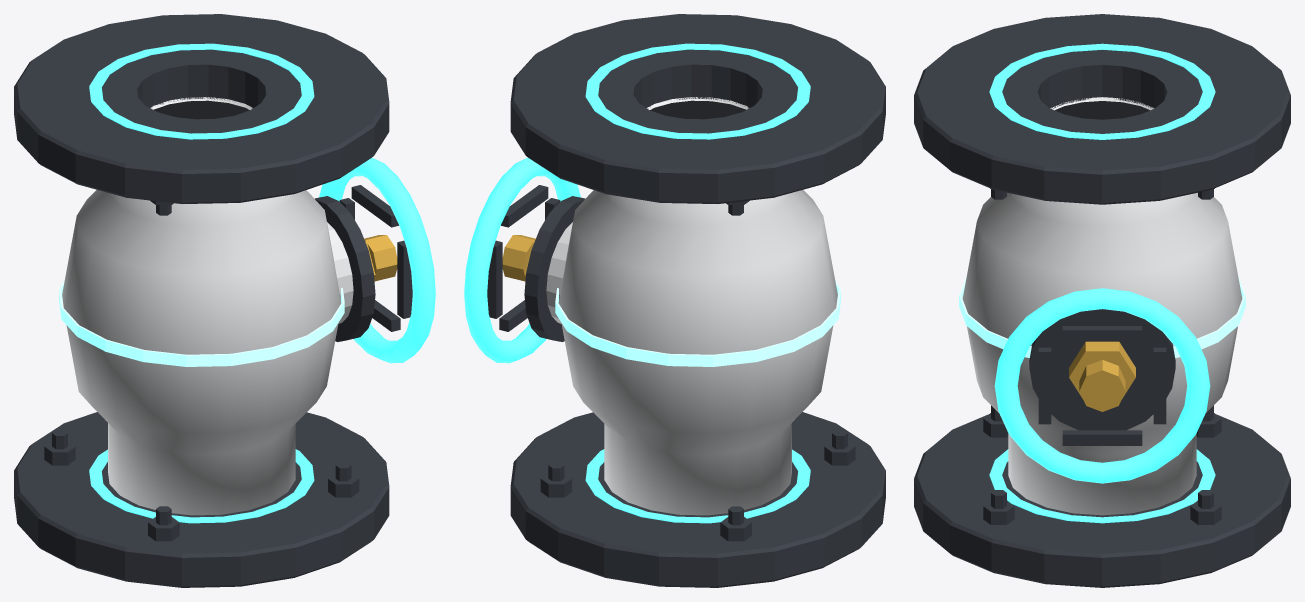
The model's file is valve_space.glb.
3 views of the same model, side by side, from view 1: azimuth 30°, elevation 25°; view 2: azimuth 150°, elevation 25°; view 3: azimuth 270°, elevation 25° (orthographic).
Visible parts, largest first — view 1: valve_space; view 2: valve_space; view 3: valve_space.
Boxes of the visible parts, x1,y1,x2,y2 form: valve_space: (14, 14, 435, 587); valve_space: (464, 14, 885, 587); valve_space: (914, 14, 1290, 587).
Size of the model in its own units: 0.192 by 0.2204 by 0.18.
